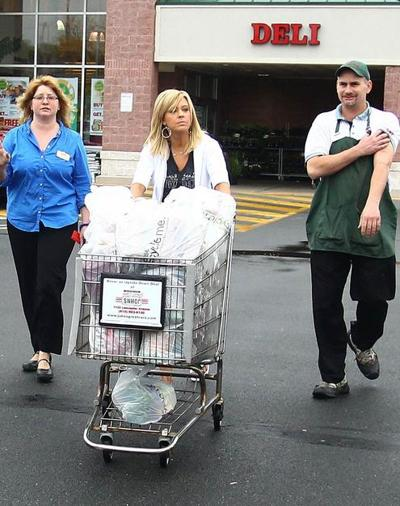person: (130, 88, 235, 417)
